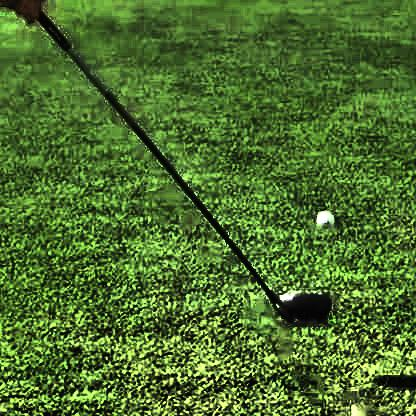golfball: (314, 207, 331, 227)
